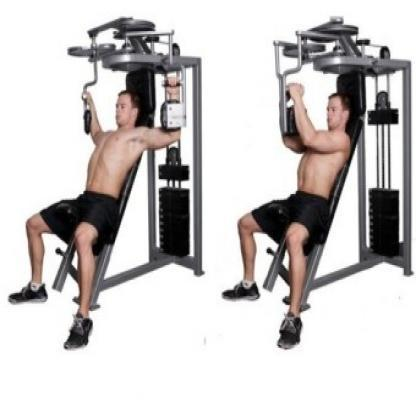chest fly machine: (2, 0, 207, 361), (219, 9, 416, 357)
